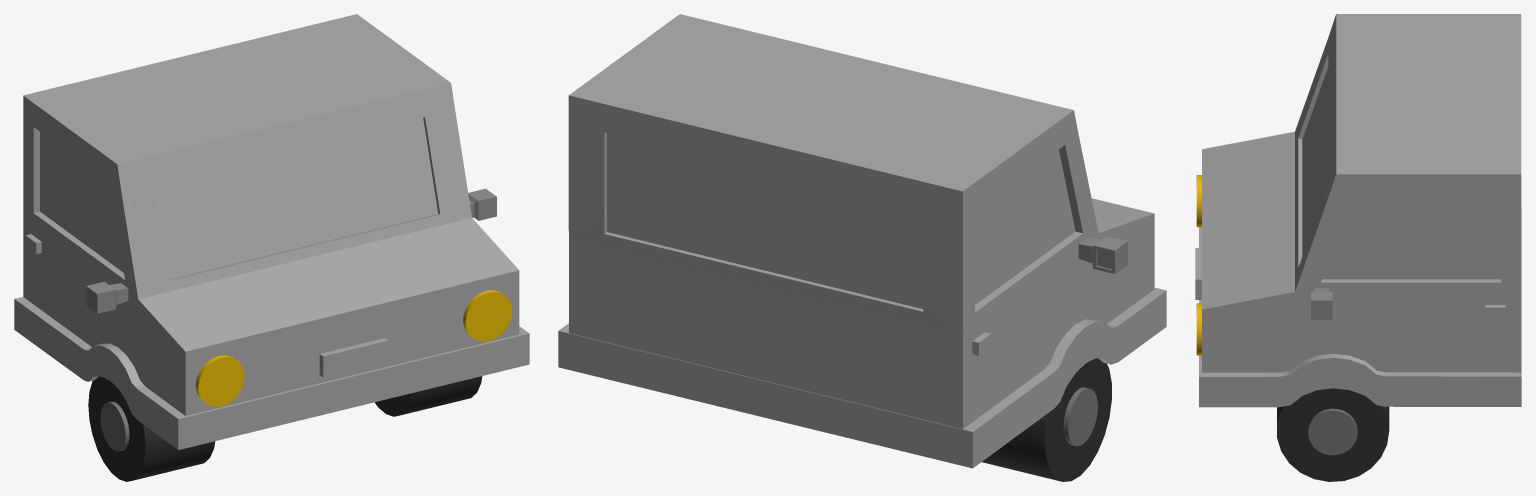
The model's file is avant vehicule van.fbx.
The picture shows the model from 3 angles, left to right: view 1: azimuth 30°, elevation 25°; view 2: azimuth 150°, elevation 25°; view 3: azimuth 270°, elevation 25°; orthographic projection. The views are drawn at different scales.
Parts seen in each view (by area): view 1: avant_vehicule_van; view 2: avant_vehicule_van; view 3: avant_vehicule_van.
Part boxes in pixels (x1,y1,x2,y2): avant_vehicule_van: (14, 14, 529, 481); avant_vehicule_van: (558, 14, 1166, 481); avant_vehicule_van: (1195, 14, 1521, 481).
Bounding box in the file's own units: 2.15 × 1.61 × 1.55.
